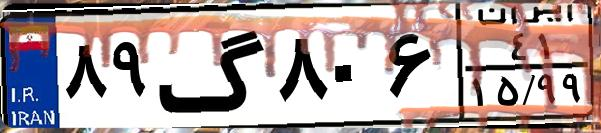0: (330, 28, 385, 110)
1: (537, 27, 568, 80), (470, 70, 495, 125)
4: (508, 27, 537, 80)
5: (495, 70, 520, 125)
6: (385, 28, 445, 110)
8: (270, 28, 330, 110), (57, 26, 110, 100)
9: (110, 28, 156, 98), (560, 70, 590, 125), (535, 70, 560, 125)
گ: (156, 12, 270, 120)
